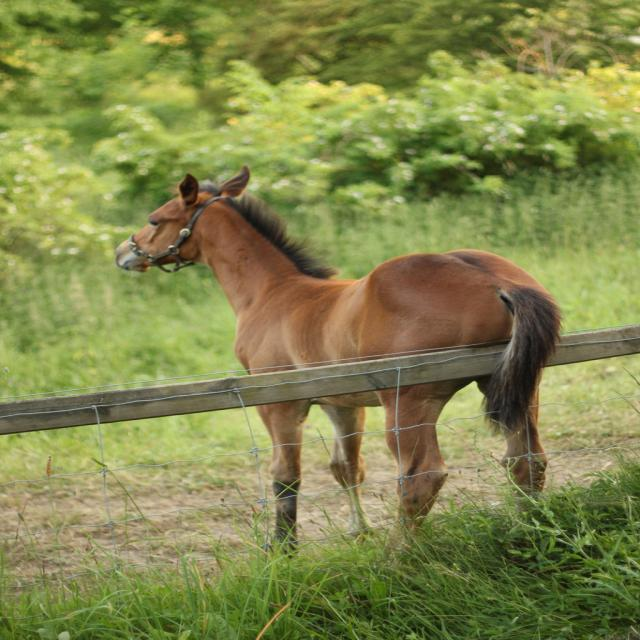Horse: (110, 164, 564, 562)
